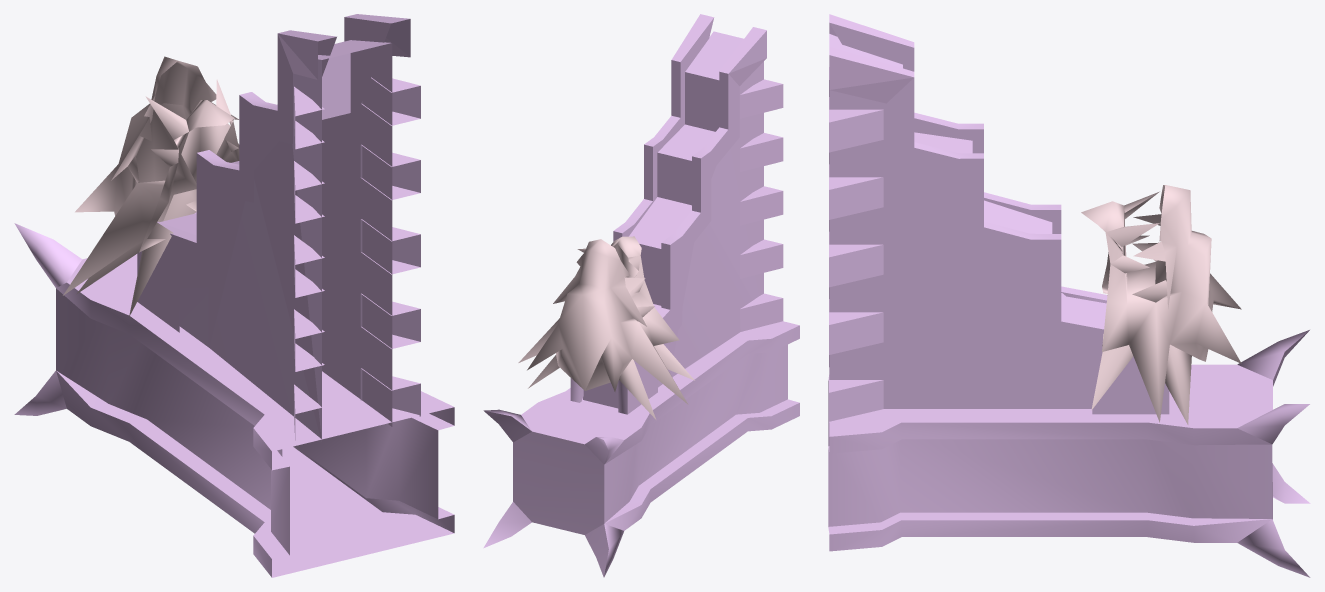
3 renders of one model, left to right at view 1: azimuth 30°, elevation 25°; view 2: azimuth 150°, elevation 25°; view 3: azimuth 270°, elevation 25°, orthographic. The views are drawn at different scales.
Parts seen in each view (by area): view 1: Object18; view 2: Object18; view 3: Object18.
Part boxes in pixels (left/top/right/bottom): Object18: left=14, top=14, right=454, bottom=577; Object18: left=483, top=14, right=799, bottom=577; Object18: left=828, top=14, right=1310, bottom=577.
Size of the model in its own units: 20663 by 46349 by 39999.
